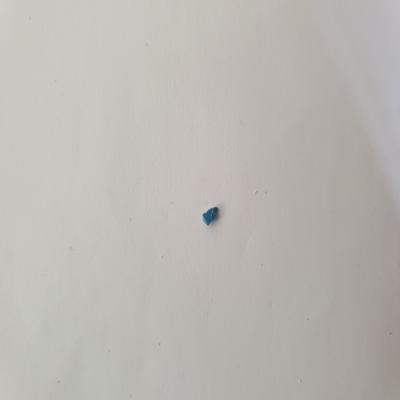plastic: (199, 203, 224, 227)
